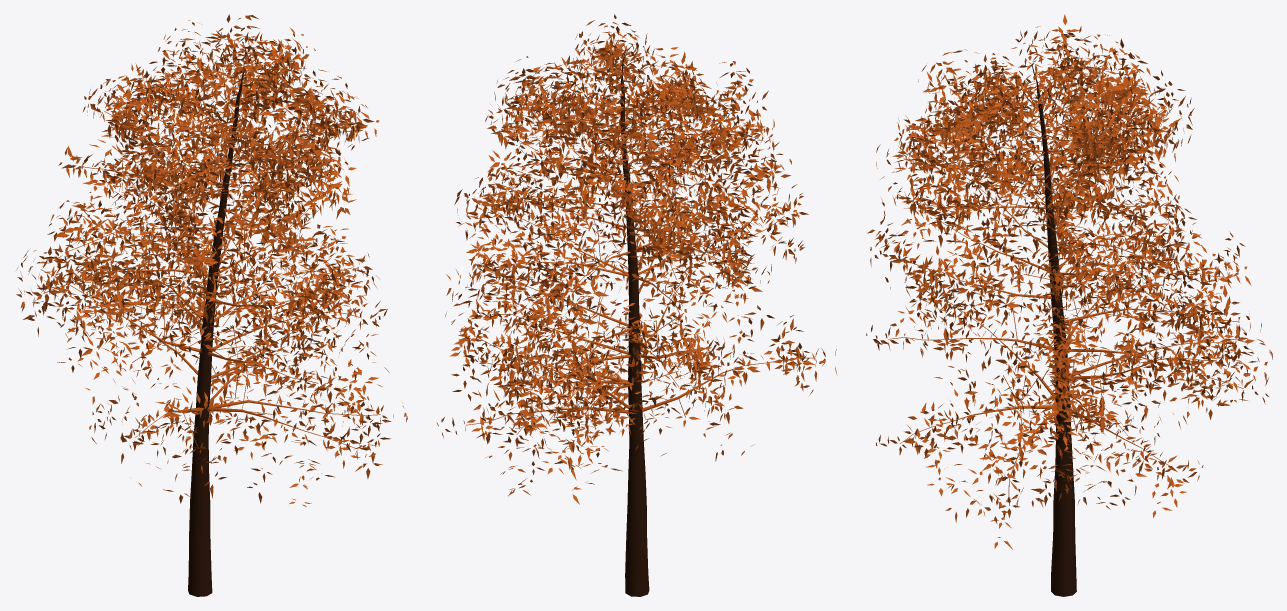
Rendered from tree8.FBX.
The picture shows the model from 3 angles, left to right: view 1: azimuth 30°, elevation 25°; view 2: azimuth 150°, elevation 25°; view 3: azimuth 270°, elevation 25°; orthographic projection. The views are drawn at different scales.
Parts seen in each view (by area): view 1: tree5; view 2: tree5; view 3: tree5.
Part boxes in pixels (<box>): tree5: <box>16,14,407,596</box>; tree5: <box>436,14,837,596</box>; tree5: <box>866,14,1272,596</box>.
Size of the model in its own units: 111 by 178 by 117.
